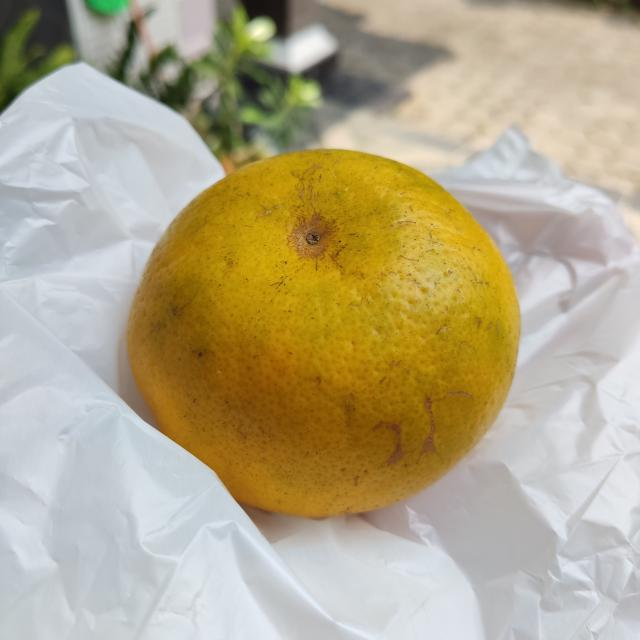orange: (121, 144, 522, 520)
